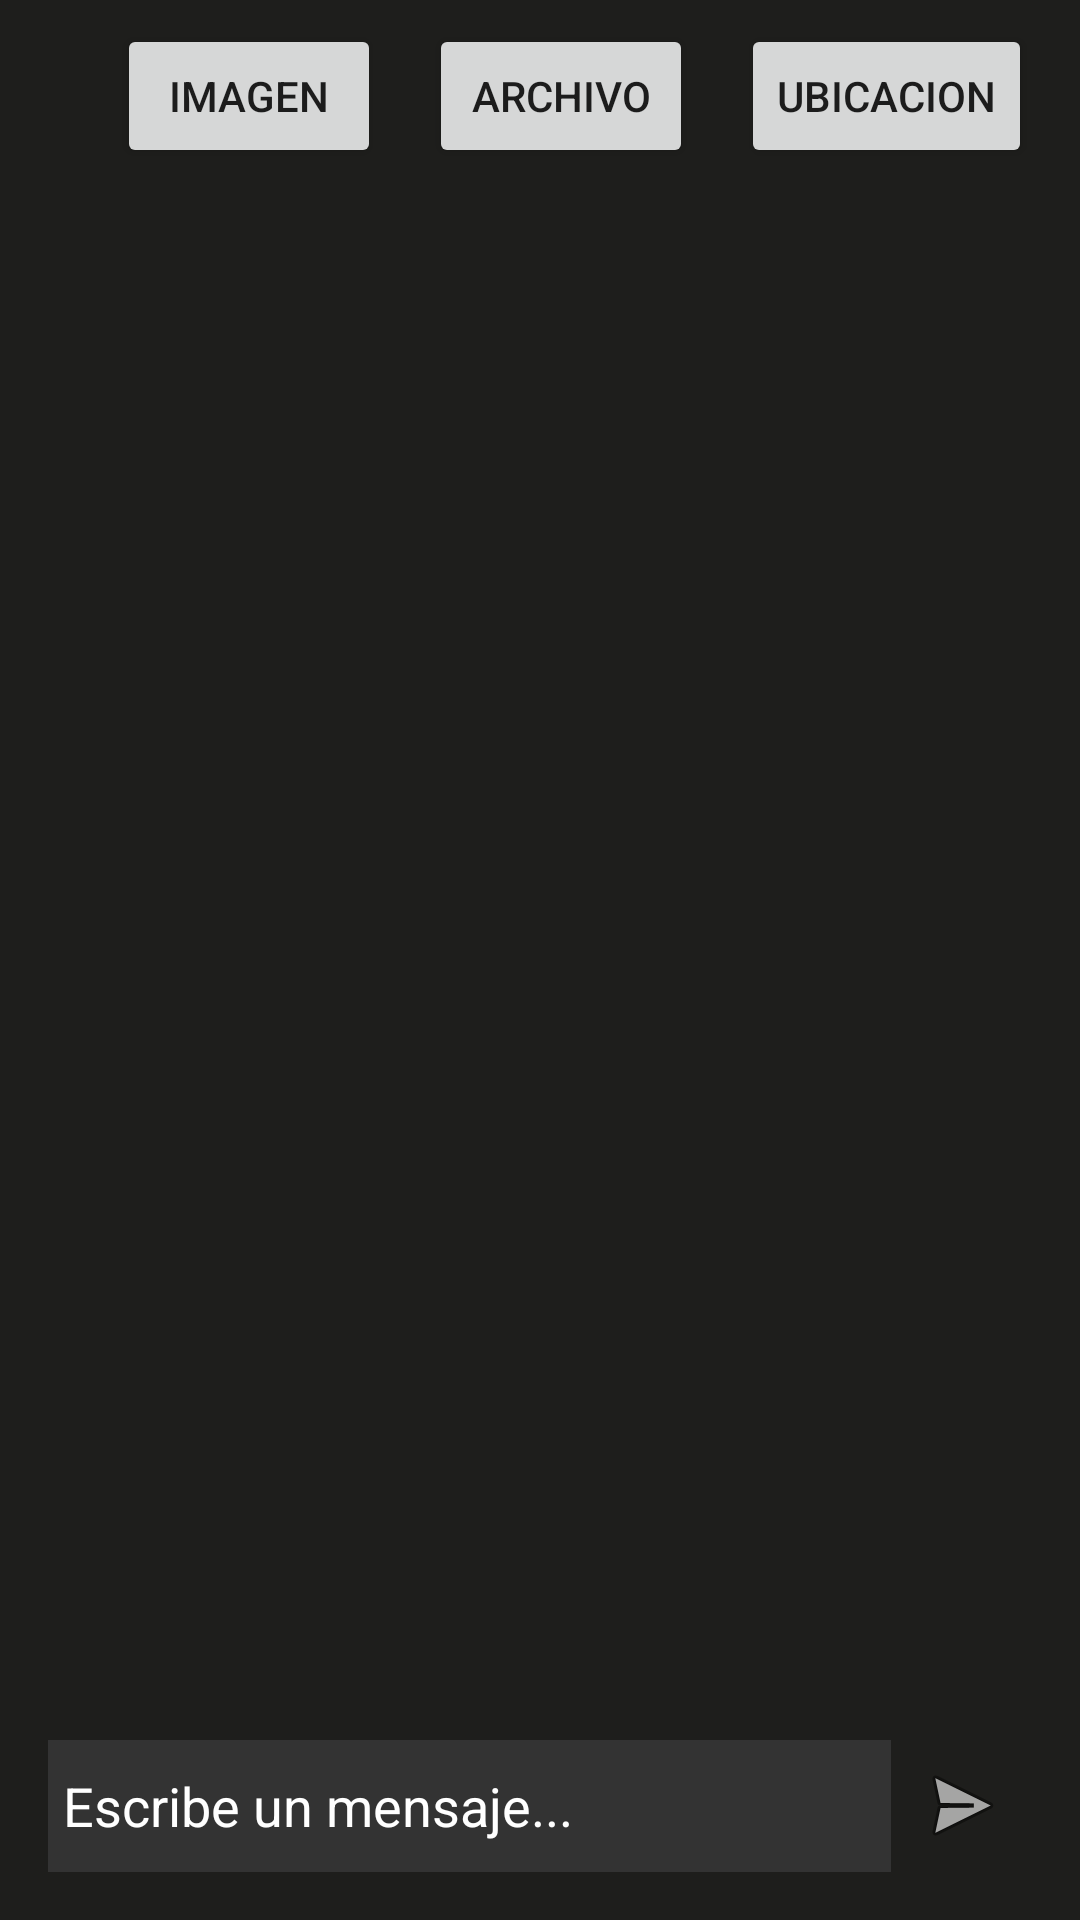

Named icons in this screenshot (1080px x 1920px) and their centers, (x=x, y=y):
send: (x=963, y=1805)
